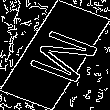M_SE: (12, 23, 98, 87)
